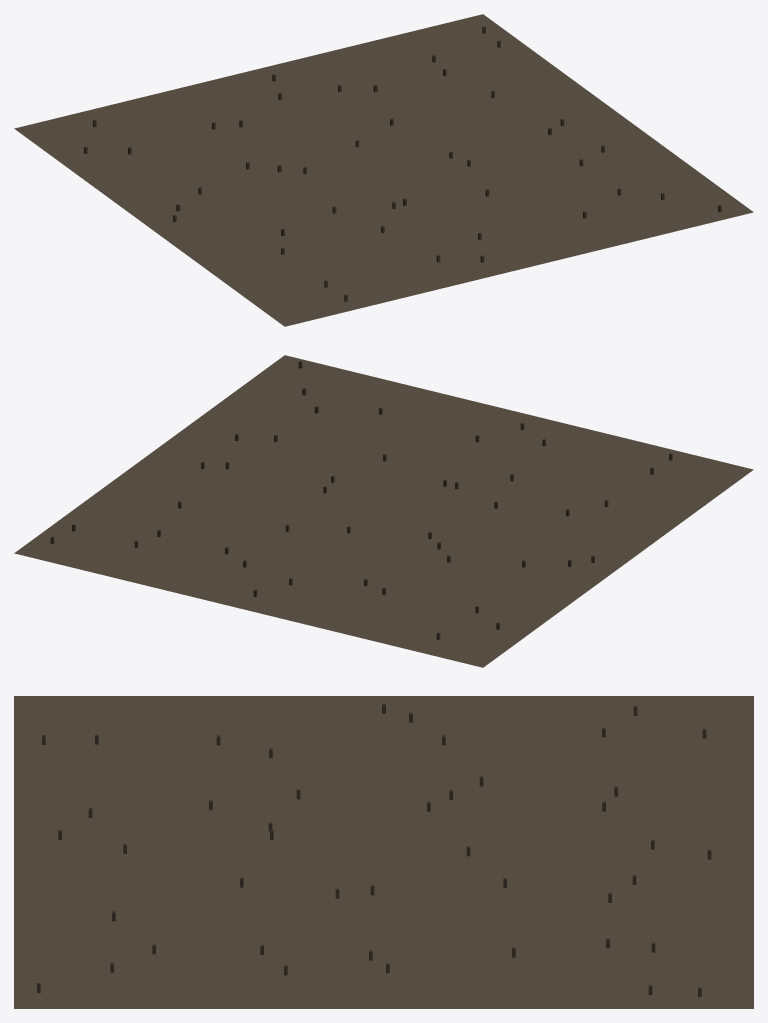
File: SM_OfficeFloor.fbx
3 views of the same model, one above another, from view 1: azimuth 30°, elevation 25°; view 2: azimuth 150°, elevation 25°; view 3: azimuth 270°, elevation 25° (orthographic). The views are drawn at different scales.
Visible parts, largest first — view 1: SM_Carpet; view 2: SM_Carpet; view 3: SM_Carpet.
Boxes of the visible parts, x1,y1,x2,y2 form: SM_Carpet: [14, 14, 753, 326]; SM_Carpet: [14, 355, 753, 667]; SM_Carpet: [14, 696, 753, 1008].
Size of the model in its own units: 200 by 5.01 by 200.
